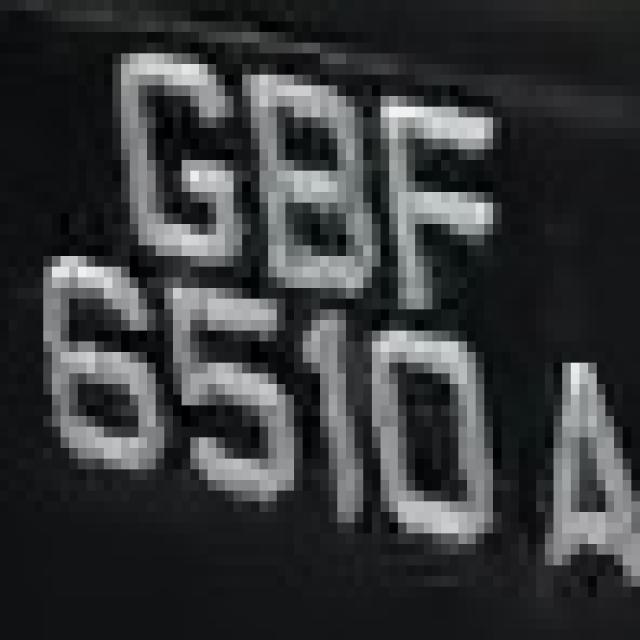0: (363, 299, 502, 544)
1: (259, 299, 372, 544)
5: (156, 277, 294, 512)
6: (18, 224, 164, 501)
A: (7, 6, 9, 10)
B: (216, 43, 372, 320)
F: (346, 43, 519, 320)
G: (86, 43, 260, 277)
